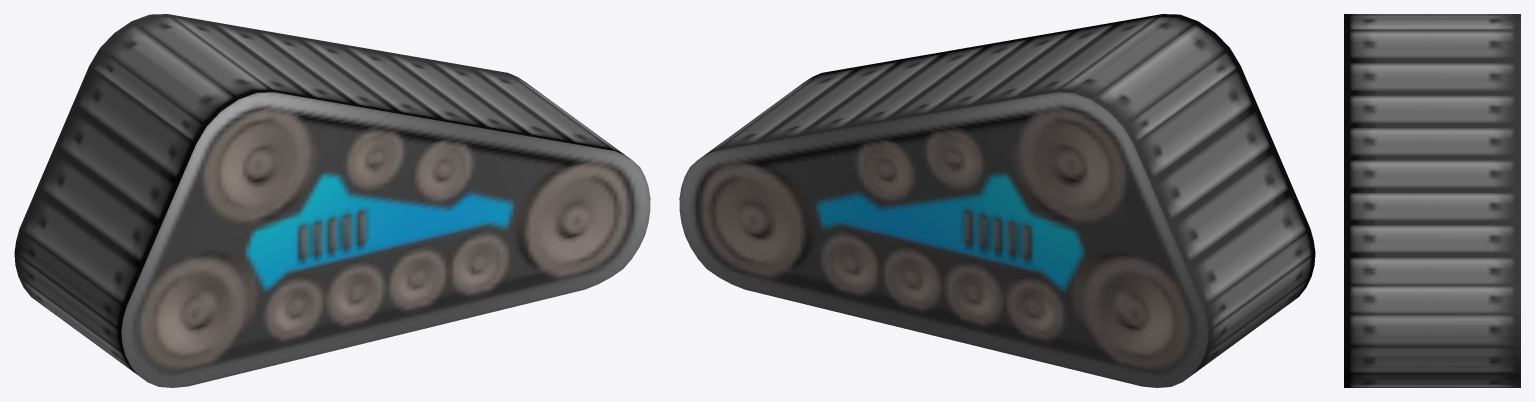
The model's file is lem2t.obj.
The picture shows the model from 3 angles, left to right: view 1: azimuth 30°, elevation 25°; view 2: azimuth 150°, elevation 25°; view 3: azimuth 270°, elevation 25°; orthographic projection. The views are drawn at different scales.
Visible parts, largest first — view 1: ColobotMesh_1_ColobotMesh_; view 2: ColobotMesh_1_ColobotMesh_; view 3: ColobotMesh_1_ColobotMesh_.
Part boxes in pixels (<box>): ColobotMesh_1_ColobotMesh_: <box>14,14,650,387</box>; ColobotMesh_1_ColobotMesh_: <box>679,14,1315,387</box>; ColobotMesh_1_ColobotMesh_: <box>1344,14,1520,387</box>.
Bounding box in the file's own units: 8 × 4 × 2.8.
